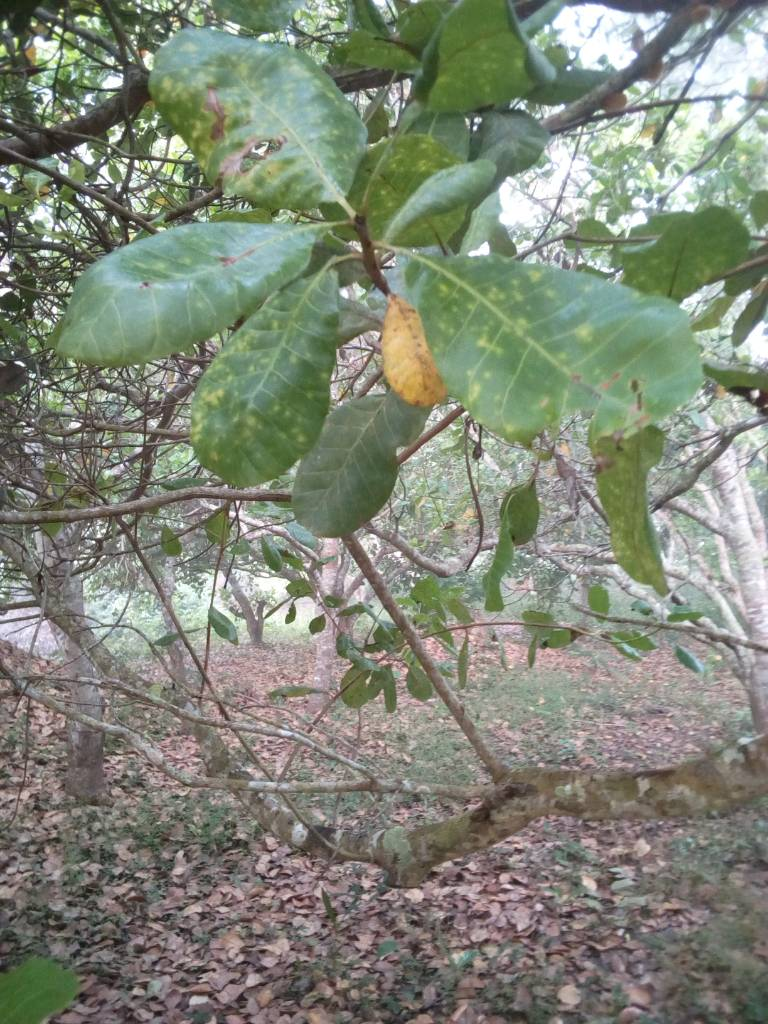Alternariose: (418, 266, 697, 436), (152, 24, 372, 211), (188, 271, 338, 488), (368, 136, 465, 247), (379, 291, 441, 416)
